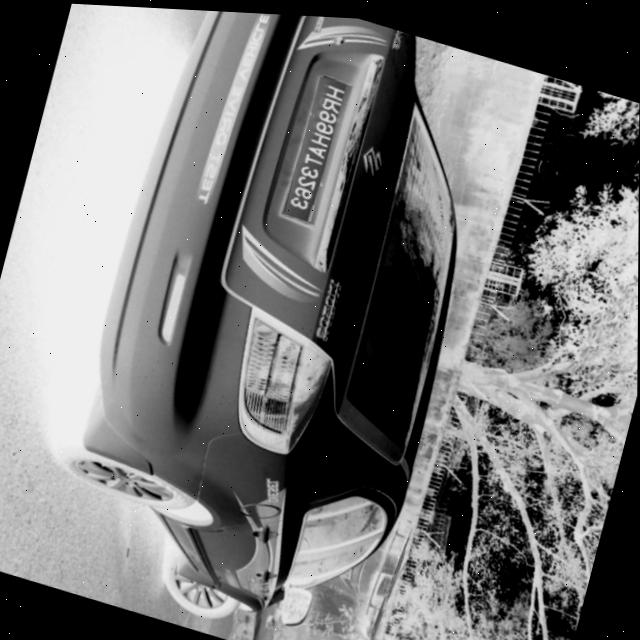Non_registered: (283, 71, 345, 219)
